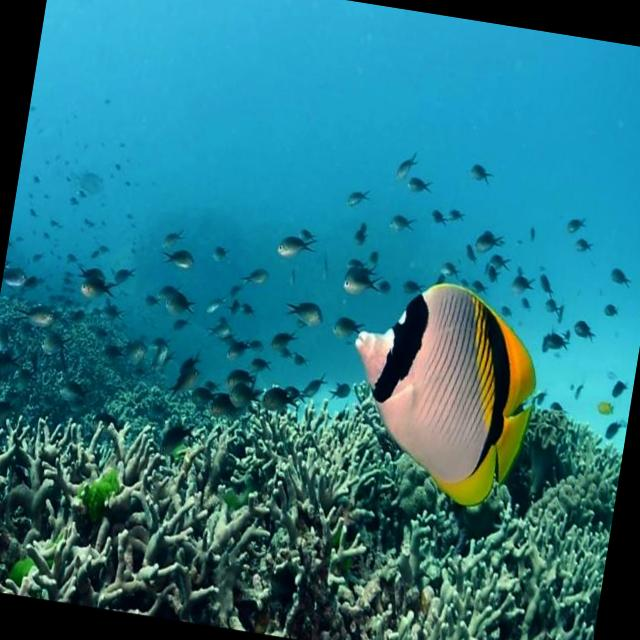ButterflyFish: (332, 274, 549, 518)
